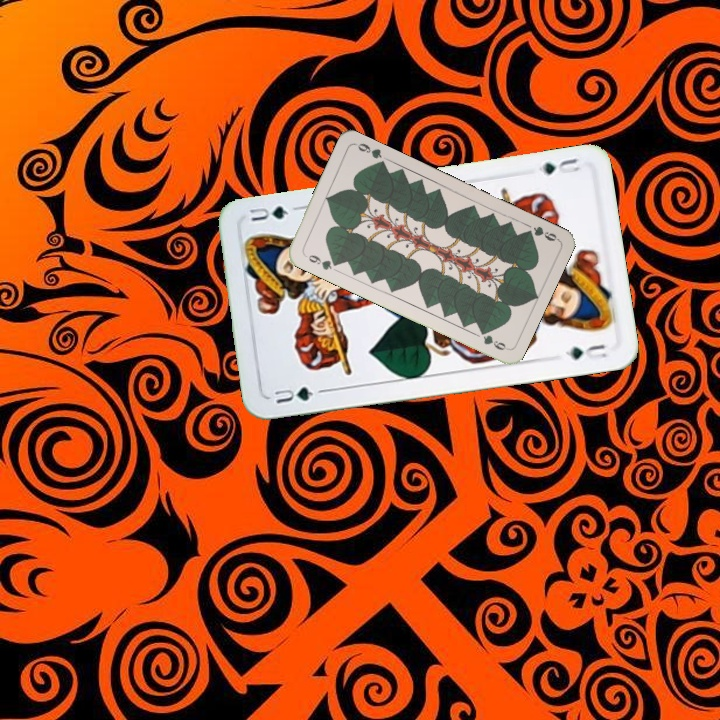G9: (300, 250, 341, 273), (520, 222, 561, 244)
GU: (534, 154, 583, 177), (270, 382, 316, 406)
